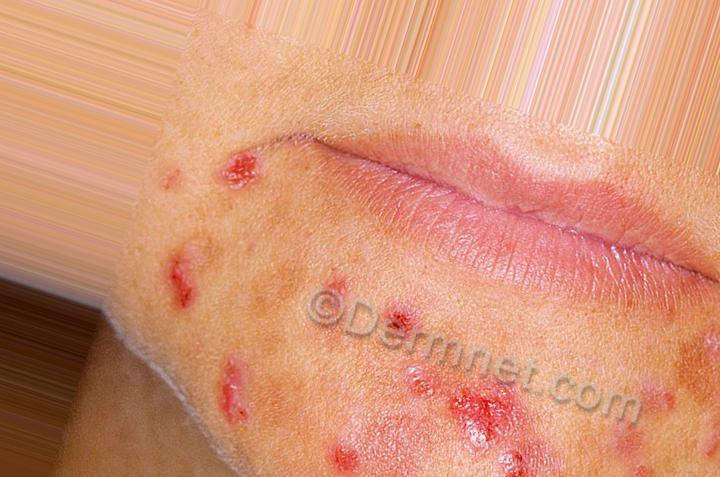Acne: (215, 356, 260, 435), (153, 249, 203, 314), (223, 143, 275, 194), (463, 390, 527, 429), (399, 364, 454, 403), (640, 380, 691, 421), (618, 426, 652, 477), (503, 443, 551, 477), (389, 300, 426, 342), (320, 274, 363, 309), (320, 440, 362, 475), (702, 435, 720, 467)
